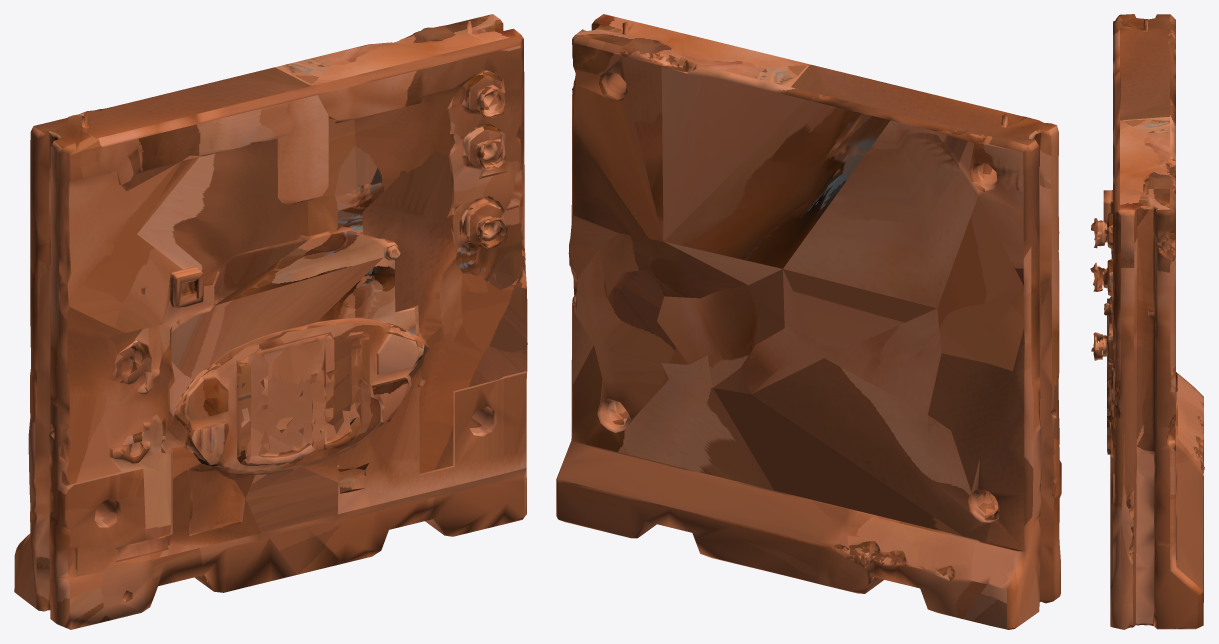
The model's file is Env_ConcreteWall_4m_Repaired.fbx.
The picture shows the model from 3 angles, left to right: view 1: azimuth 30°, elevation 25°; view 2: azimuth 150°, elevation 25°; view 3: azimuth 270°, elevation 25°; orthographic projection. The views are drawn at different scales.
Visible parts, largest first — view 1: texture_mapping; view 2: texture_mapping; view 3: texture_mapping.
Boxes of the visible parts, x1,y1,x2,y2 form: texture_mapping: (14, 14, 527, 629); texture_mapping: (556, 14, 1061, 629); texture_mapping: (1090, 14, 1204, 629).
Bounding box in the file's own units: 99.88 × 99.5 × 24.02.
